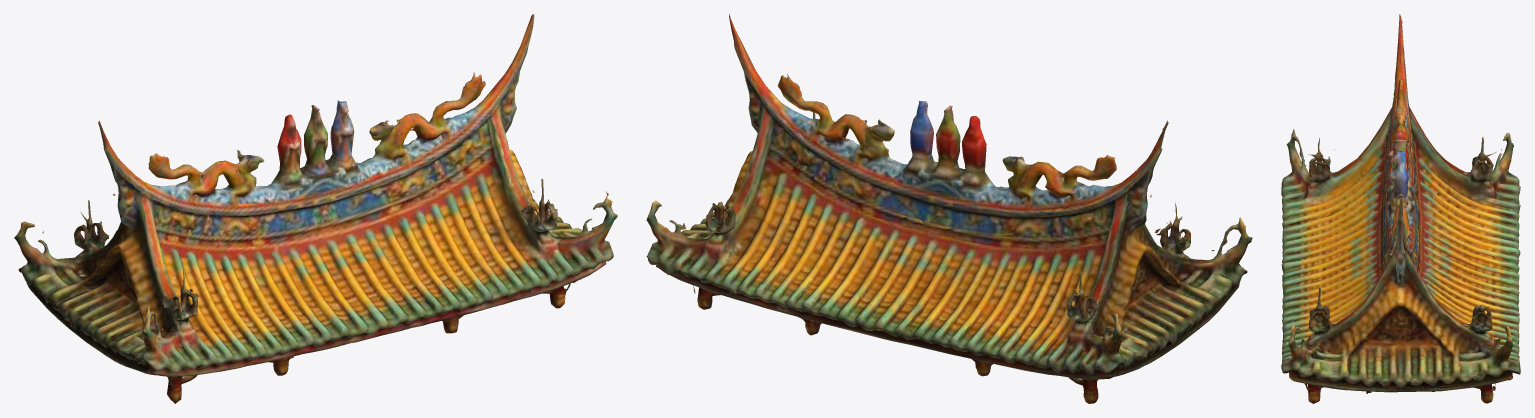
The model's file is roof1-lite.glb.
The picture shows the model from 3 angles, left to right: view 1: azimuth 30°, elevation 25°; view 2: azimuth 150°, elevation 25°; view 3: azimuth 270°, elevation 25°; orthographic projection. The views are drawn at different scales.
Size of the model in its own units: 0.9773 by 0.4927 by 0.4932.
1 material, 1 textured.
